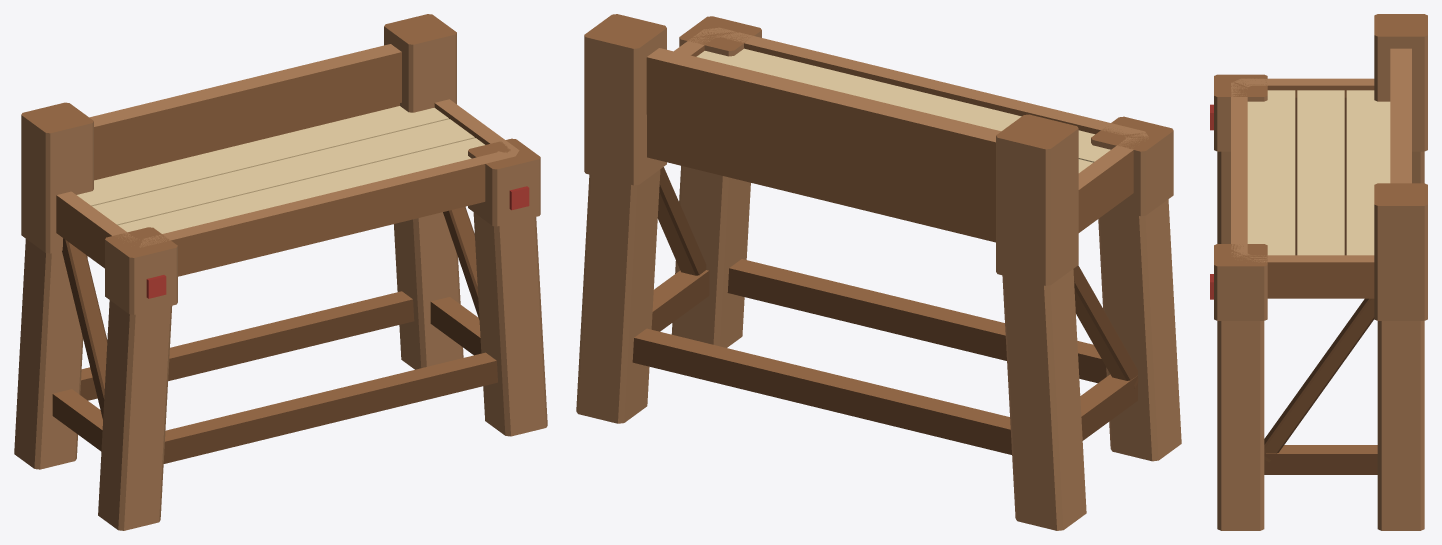
The model's file is FMS_Workshop_FUR_02.fbx.
3 views of the same model, side by side, from view 1: azimuth 30°, elevation 25°; view 2: azimuth 150°, elevation 25°; view 3: azimuth 270°, elevation 25° (orthographic). The views are drawn at different scales.
Parts seen in each view (by area): view 1: FMS_Workshop_FUR_02_Body; view 2: FMS_Workshop_FUR_02_Body; view 3: FMS_Workshop_FUR_02_Body.
Boxes of the visible parts, x1,y1,x2,y2 form: FMS_Workshop_FUR_02_Body: (14, 14, 547, 530); FMS_Workshop_FUR_02_Body: (576, 14, 1181, 530); FMS_Workshop_FUR_02_Body: (1210, 14, 1427, 530).
Size of the model in its own units: 1.42 by 1.06 by 0.652.
